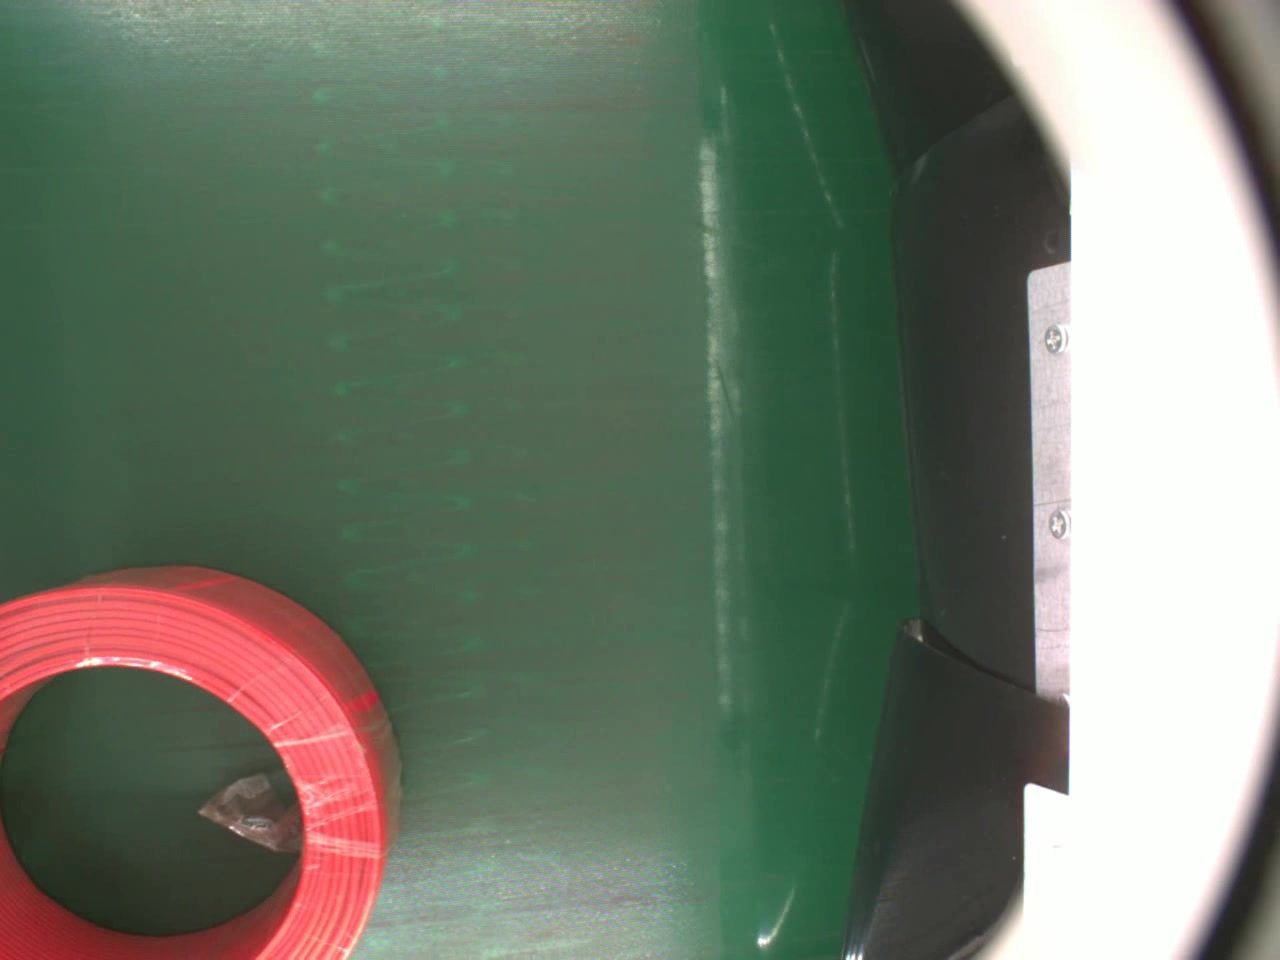red: (0, 564, 402, 960)
